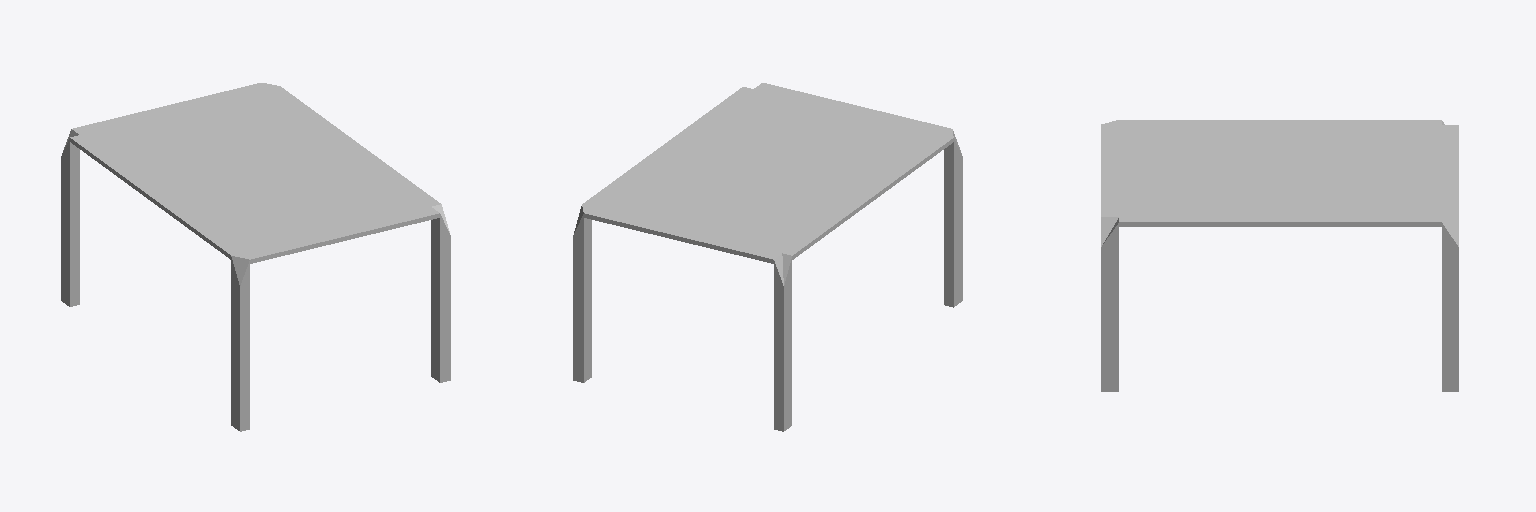
File: StylishDesk.obj
3 views of the same model, side by side, from view 1: azimuth 30°, elevation 25°; view 2: azimuth 150°, elevation 25°; view 3: azimuth 270°, elevation 25° (orthographic).
Visible parts, largest first — view 1: Cube_Cube.001; view 2: Cube_Cube.001; view 3: Cube_Cube.001.
Part boxes in pixels (x1,y1,x2,y2): Cube_Cube.001: (61, 83, 450, 431); Cube_Cube.001: (573, 83, 962, 431); Cube_Cube.001: (1101, 120, 1458, 391).
Bounding box in the file's own units: 2 × 1.54 × 2.94.